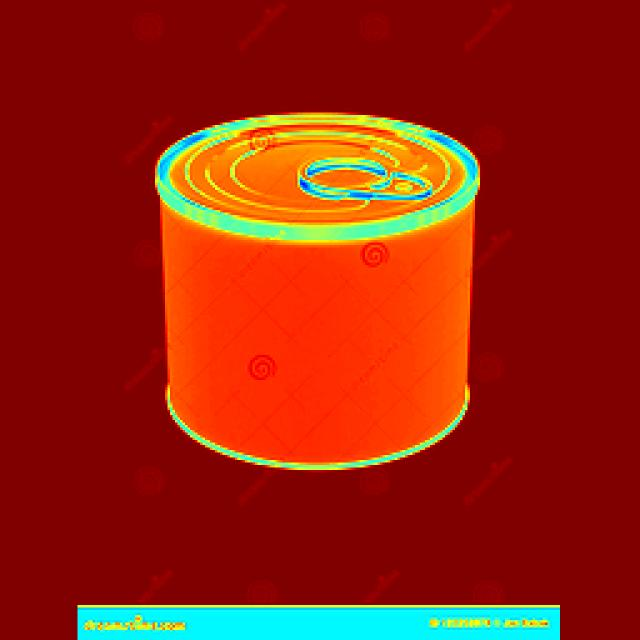Aluminium Food Cans: (139, 112, 511, 468)
